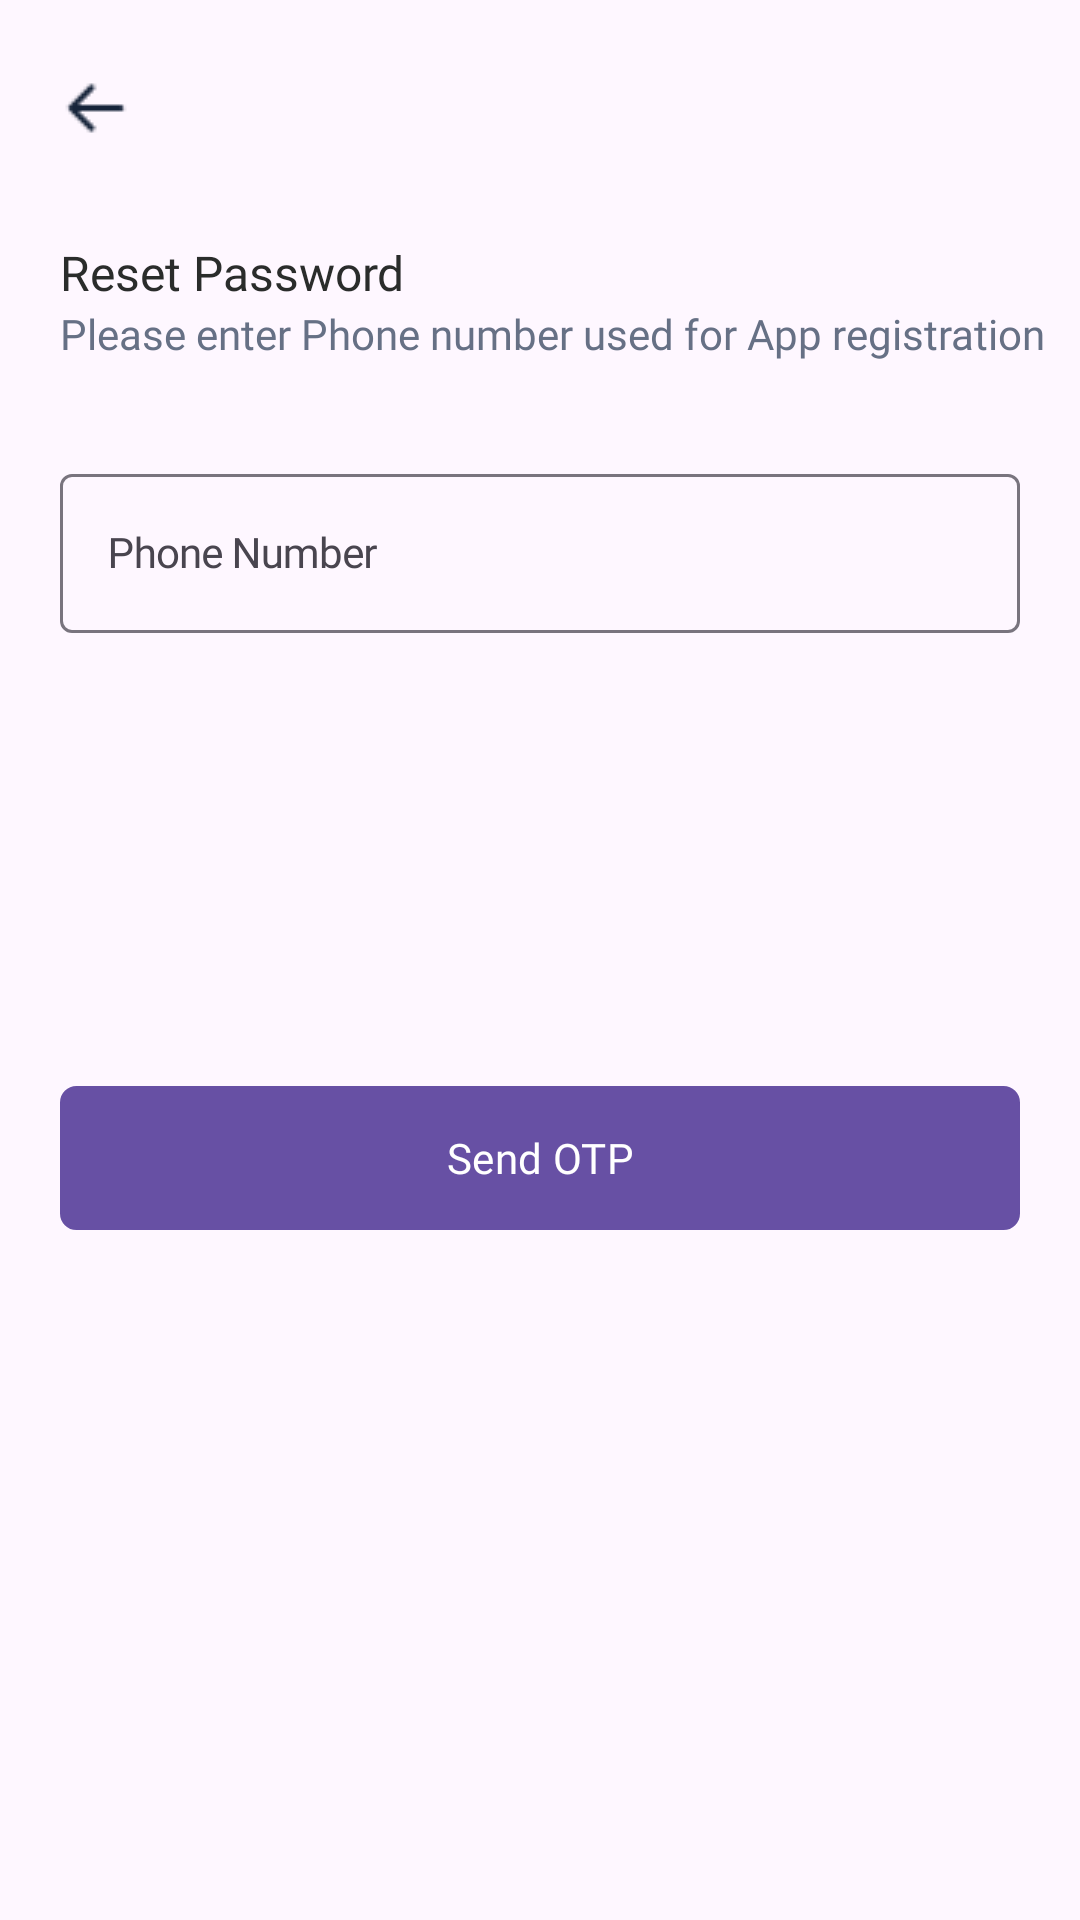

Where to tap for icons on this 1080px x 1920px app screen, as point (x, y):
arrowleft: point (96, 108)
